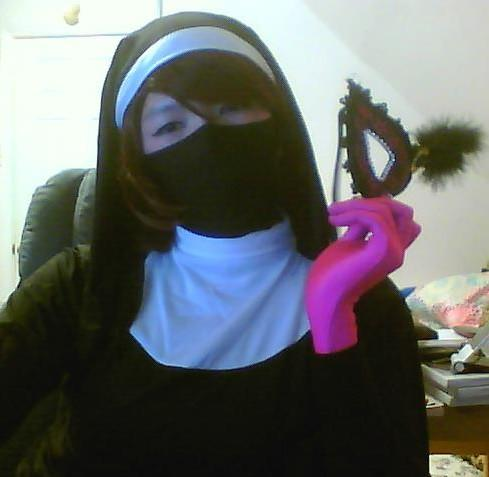OK: (135, 76, 297, 230)
